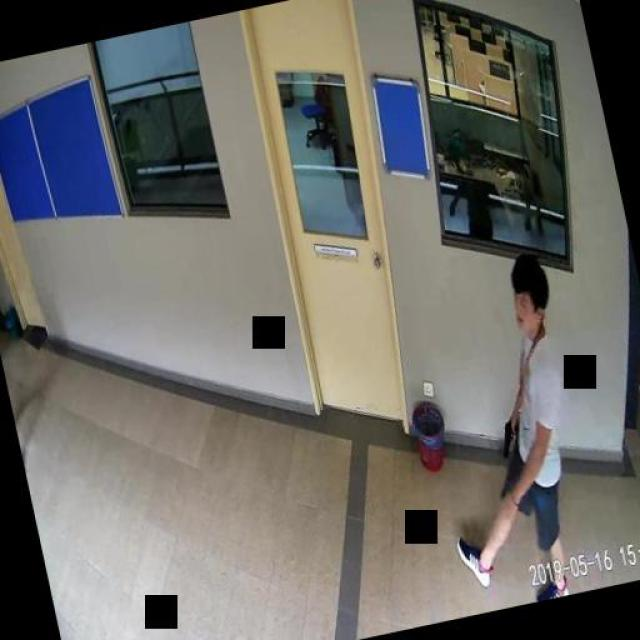gun: (495, 414, 524, 456)
